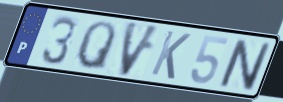3: (42, 13, 77, 67)
5: (188, 33, 231, 85)
K: (148, 28, 193, 82)
N: (217, 37, 273, 93)
Q: (73, 20, 119, 74)
V: (116, 19, 164, 79)
